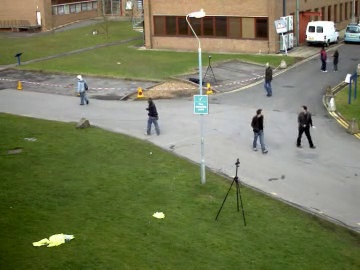person: (295, 105, 314, 149), (293, 106, 312, 149), (76, 75, 89, 106)
